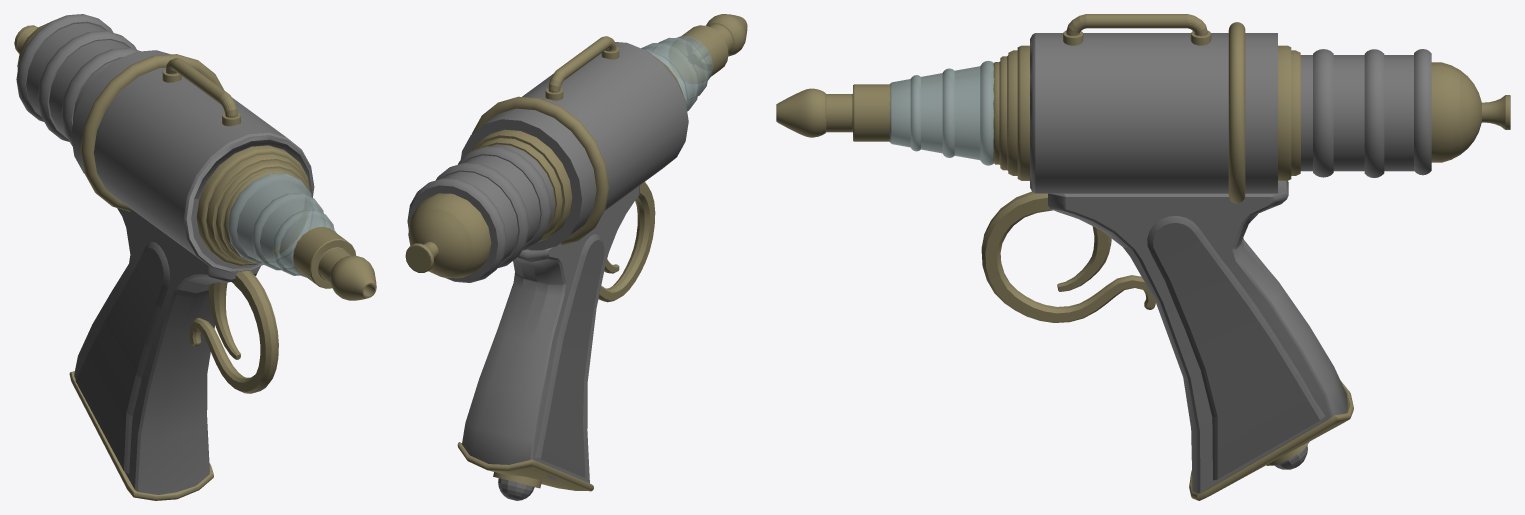
File: Blaster.fbx
3 views of the same model, side by side, from view 1: azimuth 30°, elevation 25°; view 2: azimuth 150°, elevation 25°; view 3: azimuth 270°, elevation 25° (orthographic). The views are drawn at different scales.
Visible parts, largest first — view 1: ZG_Outer_Reciever, ZG_Handle, ZG_Grip, ZG_Ammo_Core, ZG_Barrel, ZG_Inner_Riciever, ZG_Sling_Clip, ZG_Muzzle_Break, ZG_Trigger_Gaurd, ZG_Handle_Plate, ZG__Trigger, ZG_Butt; view 2: ZG_Outer_Reciever, ZG_Handle, ZG_Ammo_Core, ZG_Grip, ZG_Butt, ZG_Sling_Clip, ZG_Muzzle_Break, ZG_Inner_Riciever, ZG_Barrel, ZG_Trigger_Gaurd, ZG_Handle_Plate, ZG_Handle_Nut; view 3: ZG_Outer_Reciever, ZG_Handle, ZG_Grip, ZG_Ammo_Core, ZG_Barrel, ZG_Inner_Riciever, ZG_Sling_Clip, ZG_Trigger_Gaurd, ZG_Muzzle_Break, ZG_Butt, ZG_Handle_Plate, ZG__Trigger.
Part boxes in pixels (box(x1,y1,x2,y2)): ZG_Outer_Reciever: box(71, 50, 314, 272); ZG_Handle: box(74, 208, 260, 494); ZG_Grip: box(75, 241, 169, 473); ZG_Ammo_Core: box(16, 14, 140, 145); ZG_Barrel: box(227, 173, 336, 277); ZG_Inner_Riciever: box(196, 145, 309, 265); ZG_Sling_Clip: box(80, 54, 240, 211); ZG_Muzzle_Break: box(293, 226, 376, 300); ZG_Trigger_Gaurd: box(189, 270, 278, 393); ZG_Handle_Plate: box(69, 371, 213, 500); ZG__Trigger: box(208, 282, 240, 359); ZG_Butt: box(14, 22, 49, 69); ZG_Outer_Reciever: box(460, 42, 688, 250); ZG_Handle: box(462, 185, 639, 483); ZG_Ammo_Core: box(407, 145, 554, 282); ZG_Grip: box(535, 234, 604, 477); ZG_Butt: box(405, 193, 491, 278); ZG_Sling_Clip: box(472, 36, 619, 245); ZG_Muzzle_Break: box(668, 14, 747, 83); ZG_Inner_Riciever: box(472, 56, 682, 241); ZG_Barrel: box(641, 36, 713, 111); ZG_Trigger_Gaurd: box(598, 182, 655, 302); ZG_Handle_Plate: box(457, 442, 593, 491); ZG_Handle_Nut: box(493, 472, 541, 500); ZG_Outer_Reciever: box(1030, 33, 1277, 193); ZG_Handle: box(1048, 181, 1347, 493); ZG_Grip: box(1147, 216, 1324, 480); ZG_Ammo_Core: box(1301, 49, 1431, 177); ZG_Barrel: box(889, 60, 994, 165); ZG_Inner_Riciever: box(993, 45, 1300, 180); ZG_Sling_Clip: box(1063, 14, 1245, 203); ZG_Trigger_Gaurd: box(981, 191, 1155, 322); ZG_Muzzle_Break: box(776, 84, 890, 141); ZG_Butt: box(1431, 62, 1510, 162); ZG_Handle_Plate: box(1189, 381, 1353, 500); ZG__Trigger: box(1057, 226, 1111, 291).
Size of the model in its own units: 4.18 by 11.99 by 16.78.
